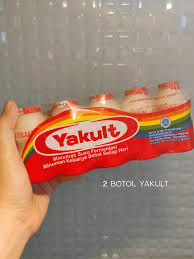Yakult (325ml): (1, 121, 181, 188)
